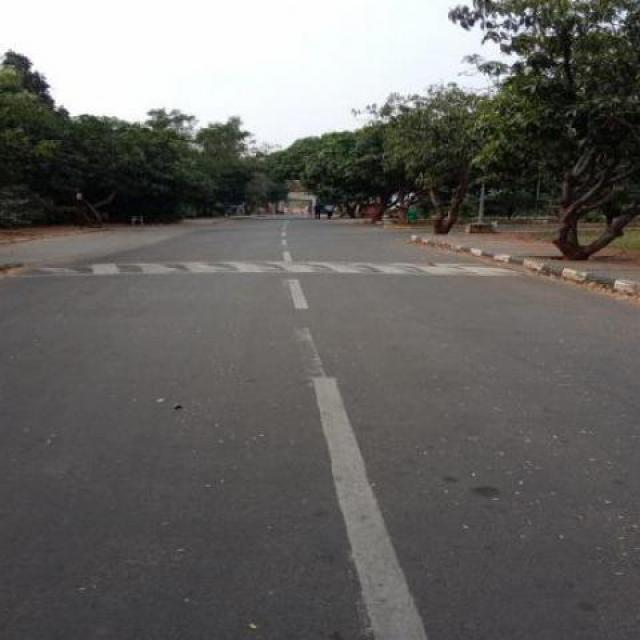Speed Bump: (18, 259, 514, 278)
